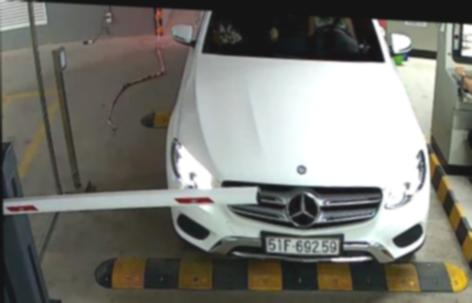License_Plate: (263, 231, 347, 261)
